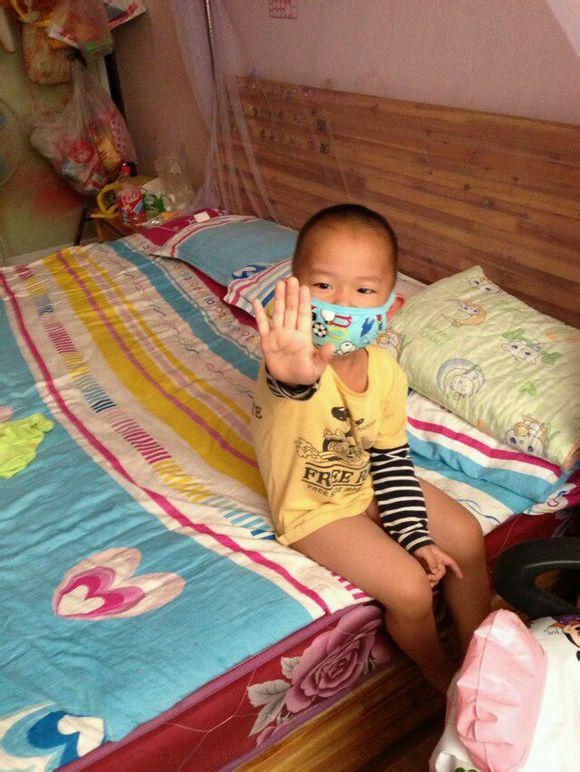WRONG: (297, 264, 394, 361)
